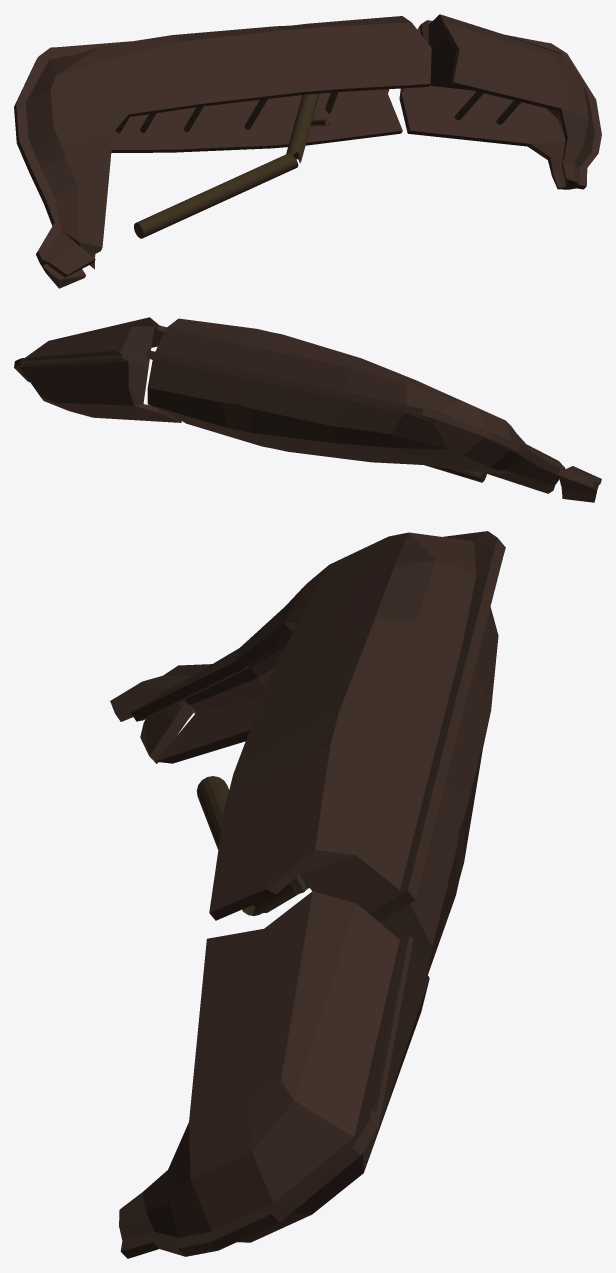
Rendered from Barco_quebradissimo.gltf.
The picture shows the model from 3 angles, top to bottom: view 1: azimuth 30°, elevation 25°; view 2: azimuth 150°, elevation 25°; view 3: azimuth 270°, elevation 25°; orthographic projection. The views are drawn at different scales.
Visible parts, largest first — view 1: Barco; view 2: Barco; view 3: Barco.
Part boxes in pixels (x1,y1,x2,y2): Barco: (14,14,601,288); Barco: (14,317,601,502); Barco: (110,531,505,1258).
Bounding box in the file's own units: 7.1 × 2.1 × 2.24.
